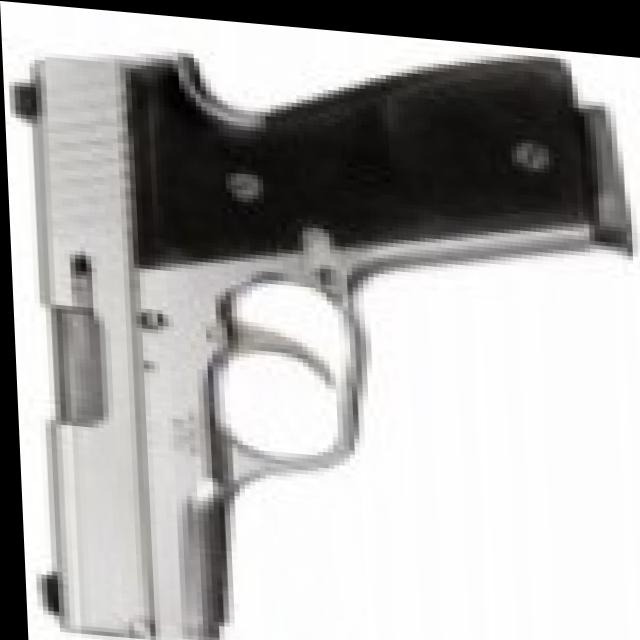handgun: (6, 12, 640, 640)
